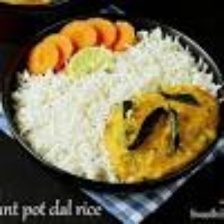dal: (102, 84, 220, 182)
